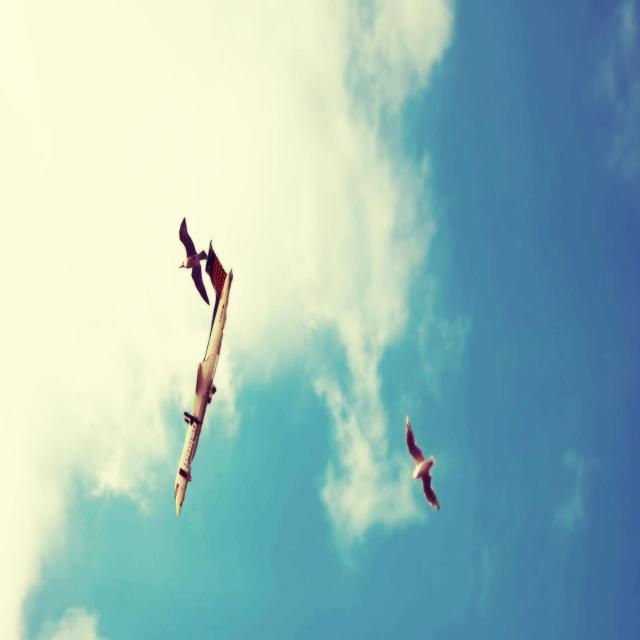airplane: (174, 239, 233, 517)
